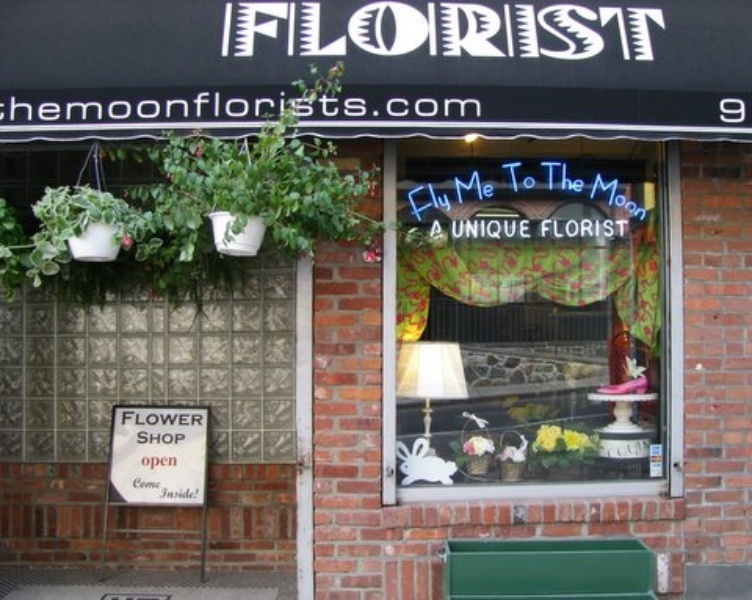text: (225, 1, 240, 62), (241, 1, 256, 62), (257, 1, 272, 62), (273, 1, 288, 62), (289, 1, 304, 62), (305, 1, 320, 62), (321, 1, 336, 62), (337, 1, 352, 62), (353, 1, 368, 62), (369, 1, 384, 62), (385, 1, 400, 62), (401, 1, 416, 62), (417, 1, 432, 62), (433, 1, 448, 62), (449, 1, 464, 62), (465, 1, 480, 62), (481, 1, 496, 62), (497, 1, 512, 62), (513, 1, 528, 62), (529, 1, 544, 62), (545, 1, 560, 62), (561, 1, 576, 62), (577, 1, 592, 62), (593, 1, 608, 62), (609, 1, 624, 62), (625, 1, 640, 62), (641, 1, 656, 62), (609, 168, 624, 225), (625, 168, 640, 225), (417, 173, 432, 226), (433, 173, 448, 226), (403, 173, 416, 226), (597, 168, 608, 225), (481, 167, 497, 206), (465, 167, 480, 206), (641, 168, 651, 225), (657, 1, 666, 62), (17, 88, 32, 123), (33, 88, 48, 123), (49, 88, 64, 123), (65, 88, 80, 123), (81, 88, 96, 123), (97, 88, 112, 123), (113, 88, 128, 123), (129, 88, 144, 123), (145, 88, 160, 123), (161, 88, 176, 123), (177, 88, 192, 123), (193, 88, 208, 123), (209, 88, 224, 123), (225, 88, 240, 123), (241, 88, 256, 123), (257, 88, 272, 123), (273, 88, 288, 123), (289, 88, 304, 123), (305, 88, 320, 123), (321, 88, 336, 123), (337, 88, 352, 123), (353, 88, 368, 123), (369, 88, 384, 123), (385, 88, 400, 123), (401, 88, 416, 123), (417, 88, 432, 123), (433, 88, 448, 123), (449, 88, 464, 123), (465, 88, 480, 123), (545, 159, 560, 193), (561, 159, 576, 193), (513, 160, 528, 193), (452, 167, 464, 206), (500, 160, 512, 193), (721, 98, 736, 124), (449, 173, 456, 226), (529, 160, 539, 193), (465, 217, 480, 239), (481, 217, 496, 239), (497, 217, 512, 239), (513, 217, 528, 239), (7, 88, 16, 123), (545, 218, 560, 239), (561, 218, 576, 239), (577, 218, 592, 239), (593, 218, 608, 239), (609, 218, 624, 239), (433, 218, 447, 240), (129, 408, 144, 427), (145, 408, 160, 427), (161, 408, 176, 427), (177, 408, 192, 427), (577, 159, 585, 193), (452, 217, 464, 239), (737, 98, 746, 124), (145, 455, 160, 470), (161, 455, 176, 470), (145, 430, 160, 444), (161, 430, 176, 444), (161, 486, 176, 500), (177, 486, 192, 500), (193, 408, 203, 427), (145, 477, 160, 489), (539, 159, 544, 193), (120, 408, 128, 427), (132, 477, 144, 489), (481, 88, 485, 123), (177, 430, 185, 444), (193, 486, 201, 500), (137, 430, 144, 444), (625, 218, 629, 239), (529, 217, 532, 239), (541, 218, 544, 239), (223, 1, 224, 62), (718, 98, 720, 124), (142, 455, 144, 470), (431, 218, 432, 240), (159, 486, 160, 500), (161, 477, 162, 489)
